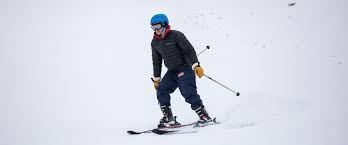skier: (123, 13, 242, 139)
